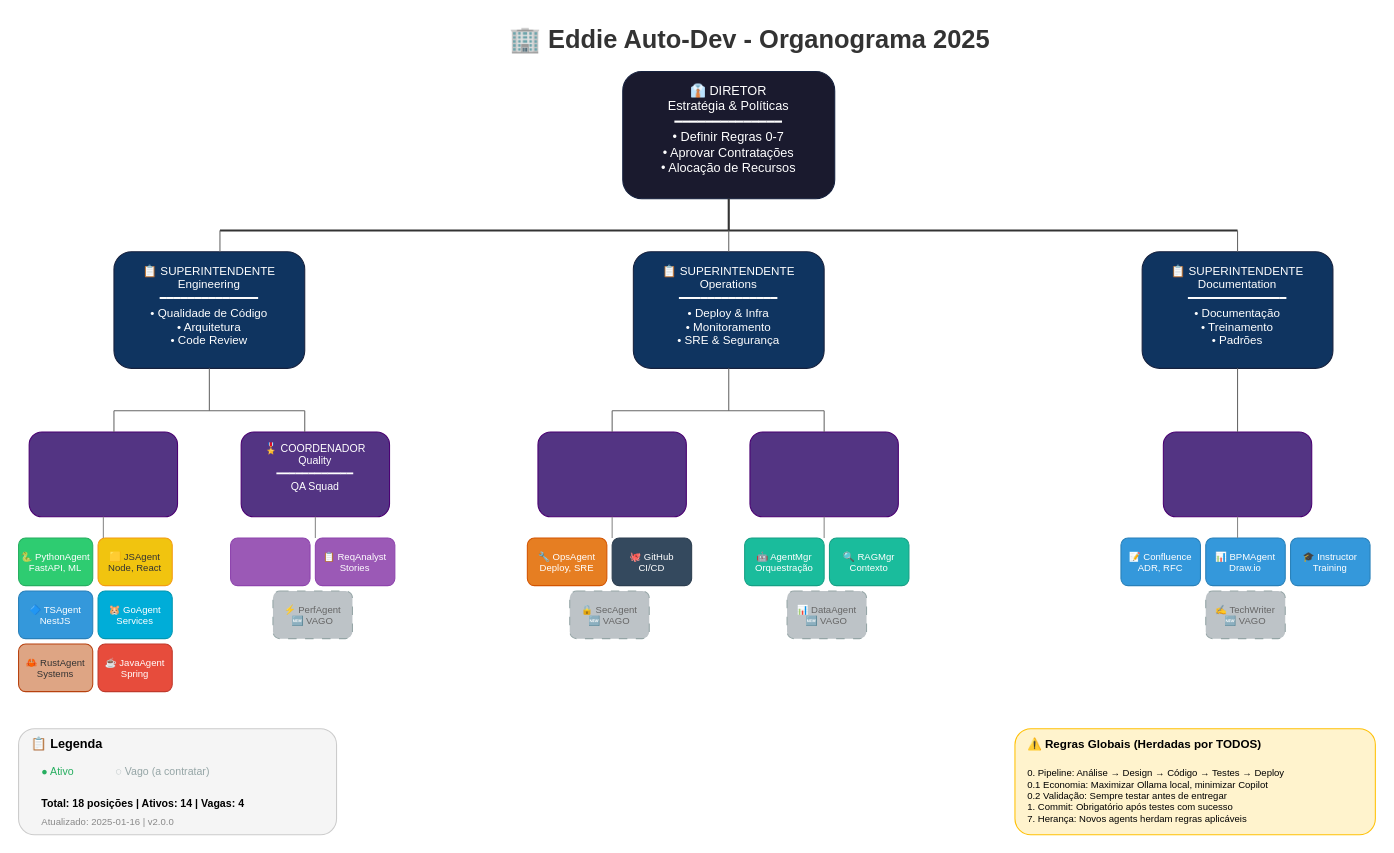
Some shapes in this 1394 by 853 pixel diagram are drawn without their labels. Each missing label, with the box of its shape:
🎖️ COORDENADOR Development ━━━━━━━━━━━━ Code Squad: (28, 431, 178, 517)
🎖️ COORDENADOR DevOps ━━━━━━━━━━━━ Ops Squad: (537, 431, 686, 517)
🎖️ COORDENADOR Knowledge ━━━━━━━━━━━━ Docs Squad: (1162, 431, 1312, 517)
🎖️ COORDENADOR Platform ━━━━━━━━━━━━ Platform Squad: (749, 431, 898, 517)
🧪 TestAgent Unit, E2E: (229, 537, 310, 586)
